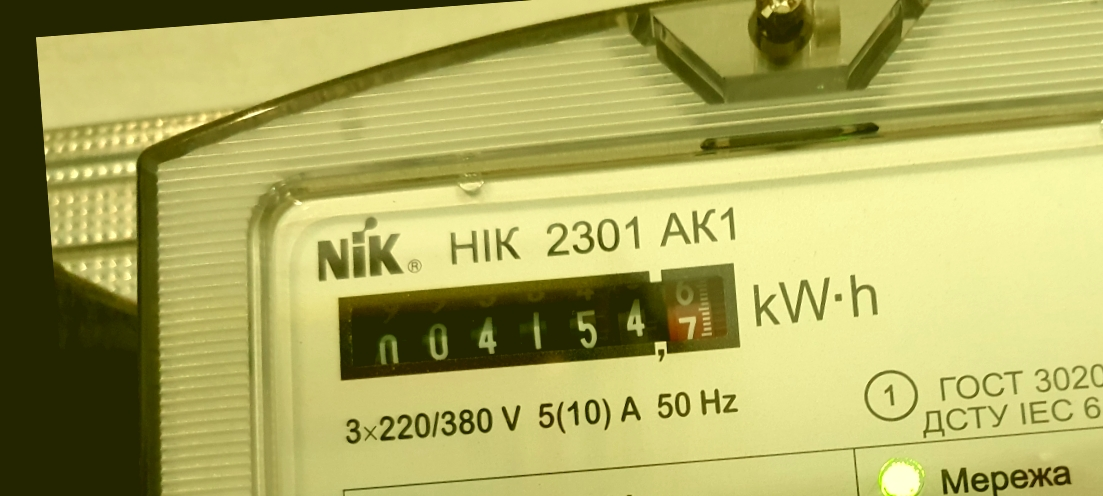0: (424, 319, 450, 362), (375, 329, 400, 364)
1: (528, 308, 544, 351)
4: (473, 313, 499, 356), (622, 293, 645, 339)
5: (573, 304, 600, 350)
6: (672, 275, 696, 306)
7: (675, 311, 698, 341)
screen: (317, 247, 758, 394)
